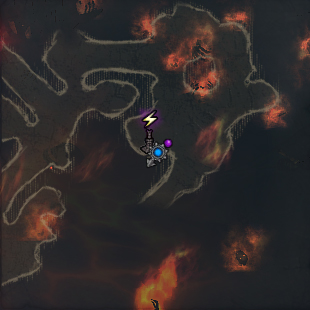ConduitPylon: (141, 109, 160, 153)
